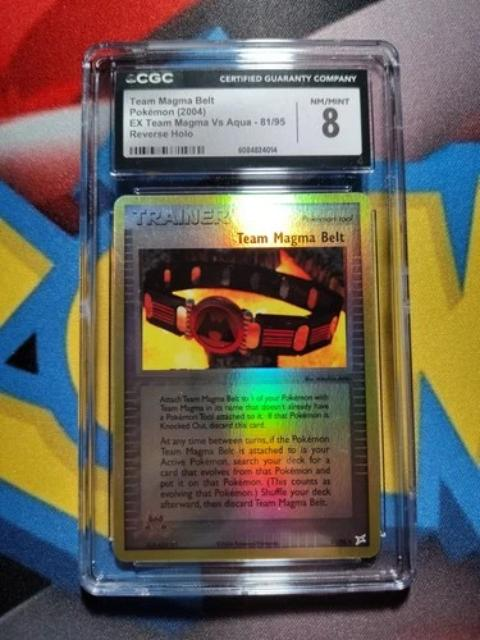Card: (108, 189, 385, 568)
Name: (229, 225, 352, 247)
